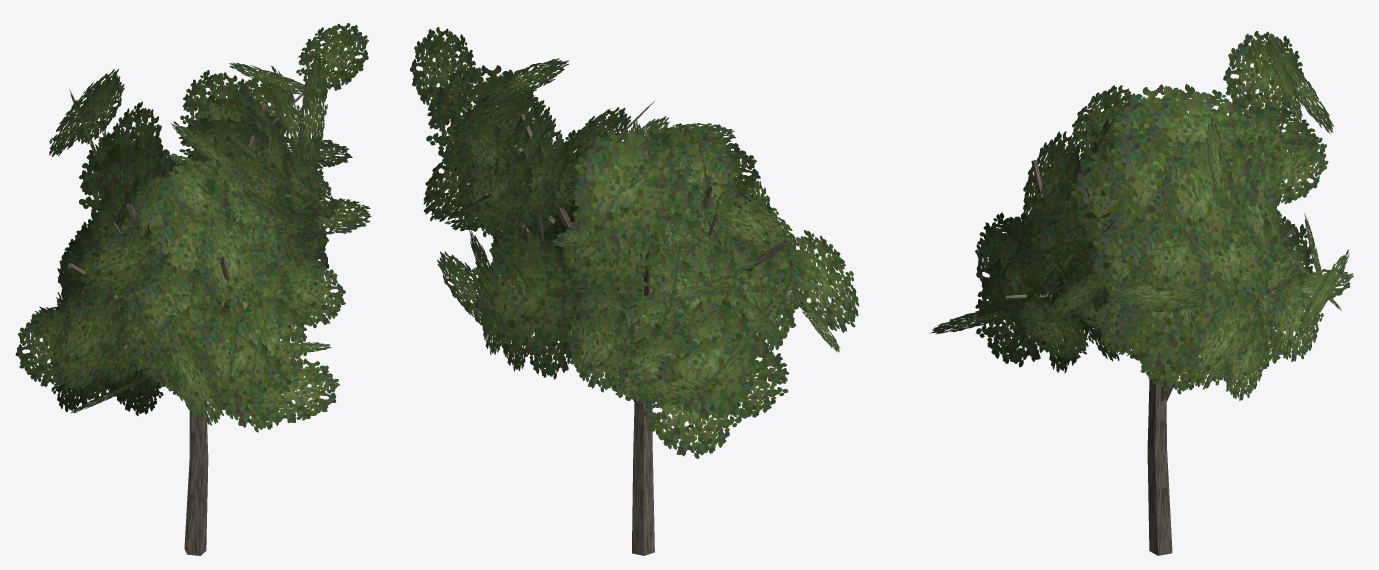
File: CommonTree_3_LOD1.gltf
3 views of the same model, side by side, from view 1: azimuth 30°, elevation 25°; view 2: azimuth 150°, elevation 25°; view 3: azimuth 270°, elevation 25° (orthographic). The views are drawn at different scales.
Visible parts, largest first — view 1: CommonTree_3_LOD1; view 2: CommonTree_3_LOD1; view 3: CommonTree_3_LOD1.
Boxes of the visible parts, <box> form: CommonTree_3_LOD1: <box>15,23,371,555</box>; CommonTree_3_LOD1: <box>410,27,859,555</box>; CommonTree_3_LOD1: <box>930,31,1353,555</box>.
Bounding box in the file's own units: 15.05 × 17.6 × 14.07.
2 materials, 2 textured.
